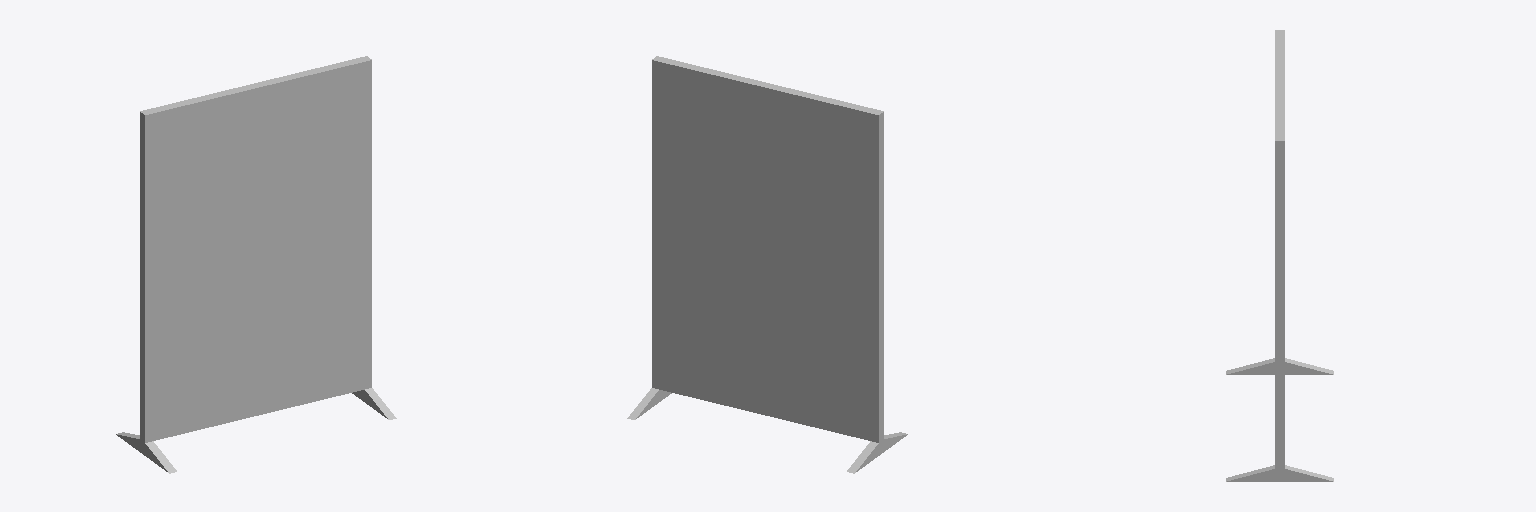
The model's file is cubiculeWall.obj.
The picture shows the model from 3 angles: view 1: azimuth 30°, elevation 25°; view 2: azimuth 150°, elevation 25°; view 3: azimuth 270°, elevation 25°; orthographic projection.
Parts seen in each view (by area): view 1: Cube.016_Cube.025; view 2: Cube.016_Cube.025; view 3: Cube.016_Cube.025.
Part boxes in pixels (bbox=[...]): Cube.016_Cube.025: bbox=[116, 56, 396, 473]; Cube.016_Cube.025: bbox=[627, 56, 907, 473]; Cube.016_Cube.025: bbox=[1226, 30, 1333, 481].
Size of the model in its own units: 1.45 by 2.08 by 0.6.